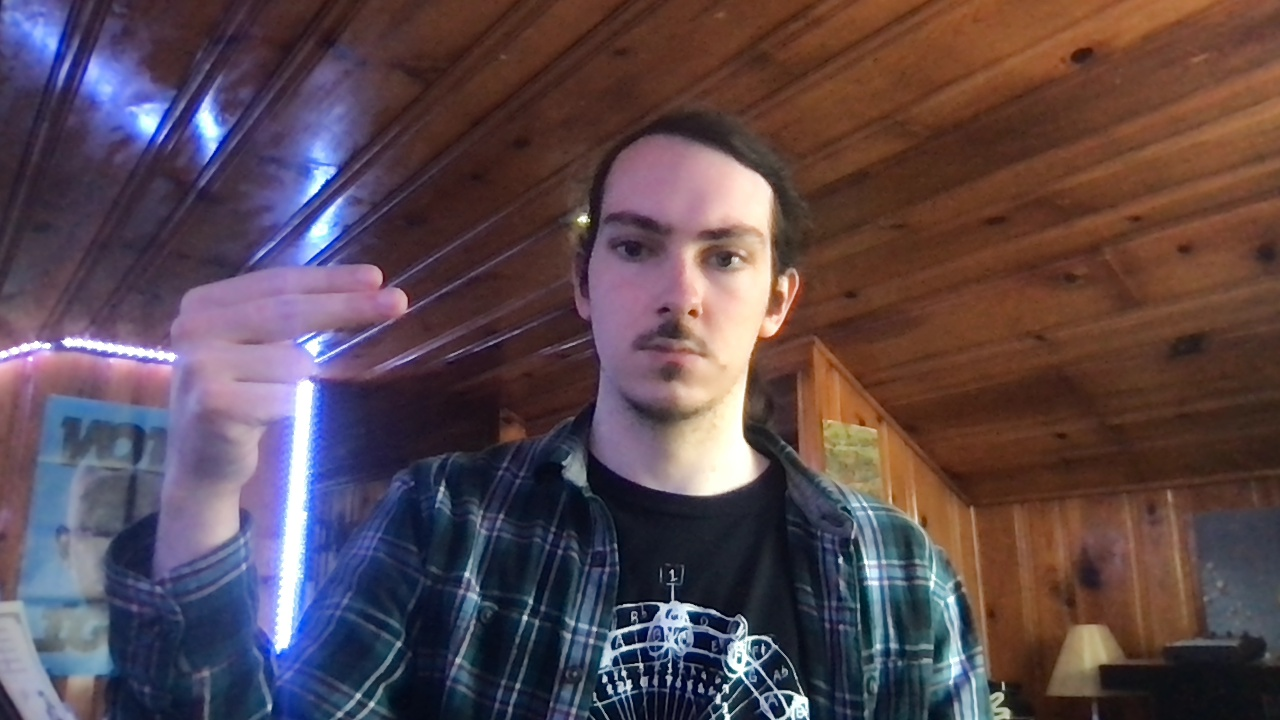h: (163, 262, 410, 493)
